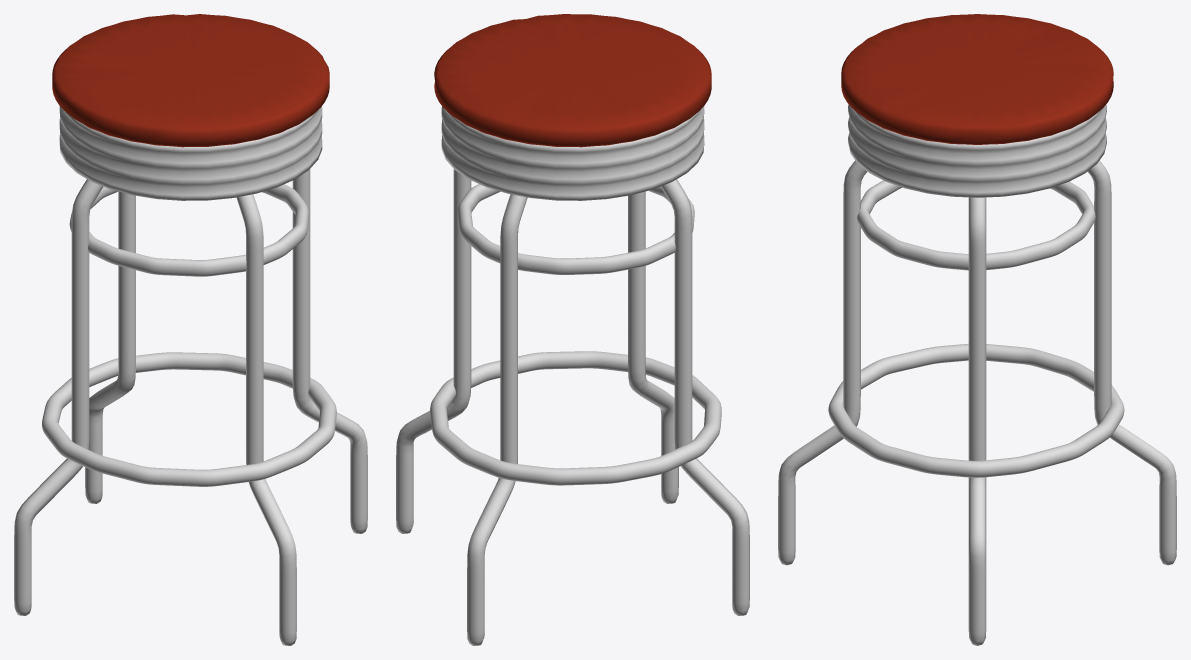
Rendered from Chair_V5.glb.
3 views of the same model, side by side, from view 1: azimuth 30°, elevation 25°; view 2: azimuth 150°, elevation 25°; view 3: azimuth 270°, elevation 25° (orthographic).
Parts seen in each view (by area): view 1: Circle.001, Circle, Plane.006, Plane.002, Plane.008, Plane.007, Plane.009, Plane.010; view 2: Circle.001, Circle, Plane.006, Plane.002, Plane.009, Plane.007, Plane.008, Plane.010; view 3: Circle.001, Circle, Plane.006, Plane.007, Plane.009, Plane.008, Plane.010.
Boxes of the visible parts, <box> form: Circle.001: <box>52,14,329,147</box>; Circle: <box>59,106,322,200</box>; Plane.006: <box>42,352,336,486</box>; Plane.002: <box>14,179,103,615</box>; Plane.008: <box>236,194,296,645</box>; Plane.007: <box>292,169,367,533</box>; Plane.009: <box>85,191,135,503</box>; Plane.010: <box>69,184,308,276</box>; Circle.001: <box>434,14,711,147</box>; Circle: <box>441,106,704,200</box>; Plane.006: <box>430,351,721,485</box>; Plane.002: <box>660,179,749,615</box>; Plane.009: <box>467,194,527,645</box>; Plane.007: <box>396,169,471,533</box>; Plane.008: <box>628,191,678,503</box>; Plane.010: <box>458,184,694,274</box>; Circle.001: <box>841,14,1113,144</box>; Circle: <box>848,104,1106,197</box>; Plane.006: <box>828,343,1124,477</box>; Plane.007: <box>968,197,986,645</box>; Plane.009: <box>1087,160,1176,565</box>; Plane.008: <box>778,160,867,565</box>; Plane.010: <box>857,180,1095,270</box>.
Bounding box in the file's own units: 0.7268 × 1 × 0.7268.
Materials: 2 (1 with a texture image).
